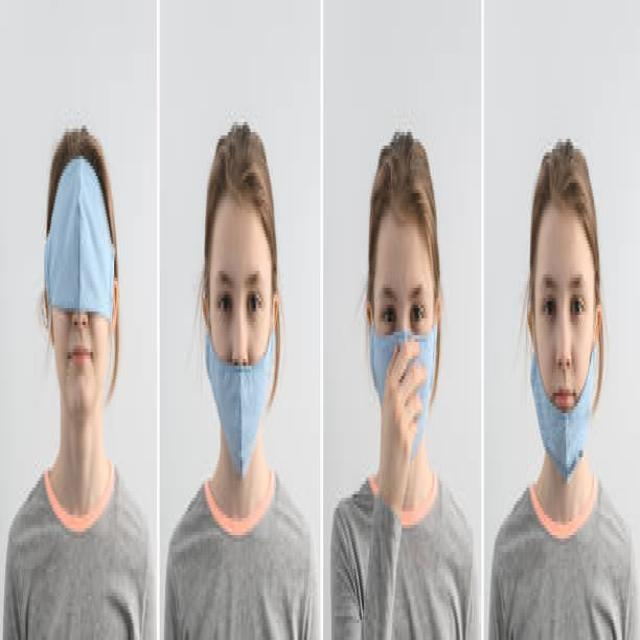hairnet: (199, 322, 283, 470), (530, 323, 604, 468)
